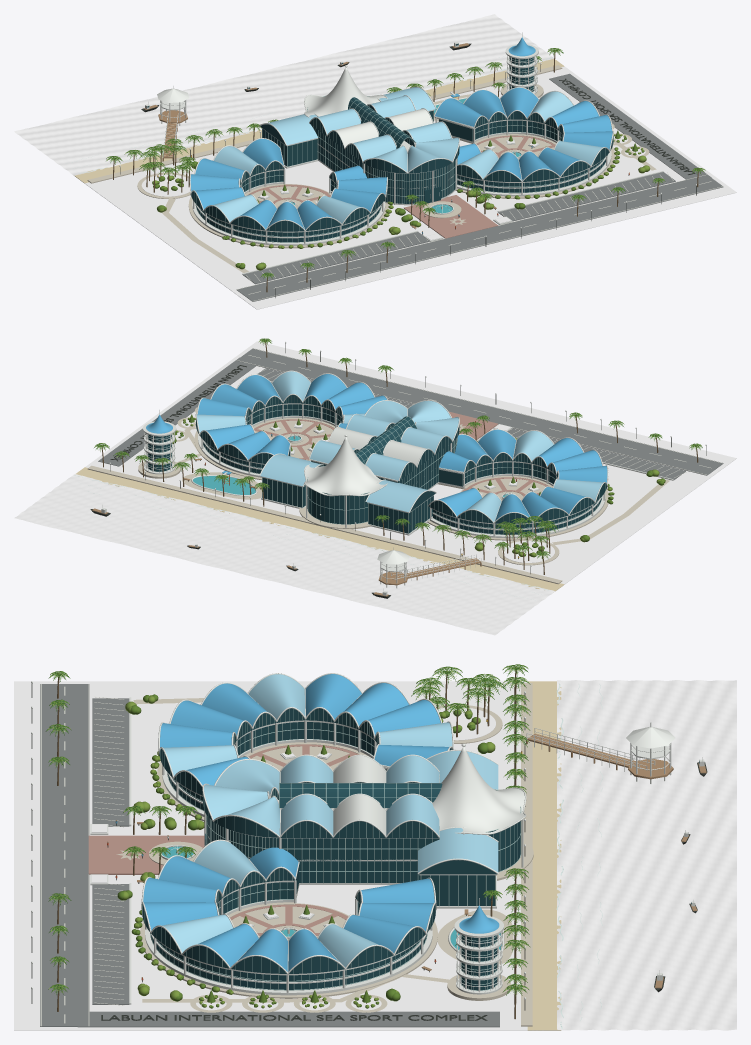
The model's file is lisc.gltf.
The picture shows the model from 3 angles, top to bottom: view 1: azimuth 30°, elevation 25°; view 2: azimuth 150°, elevation 25°; view 3: azimuth 270°, elevation 25°; orthographic projection. The views are drawn at different scales.
Visible parts, largest first — view 1: Sea surface with geometric ripples, Site lawn.001, Front roadway, East service roadway, Parking surface, Palm leaflets.002, Beach, Parking surface.001, Entrance rose plaza, 01 | west outer | curved glass, White sculpted sail roof, Atrium mullions (+55 smaller); view 2: Sea surface with geometric ripples, Site lawn.001, Front roadway, Beach, White sculpted sail roof, Beach promenade.001, Palm leaflets.002, East service roadway, Canopy hall | curved glass, 01 | west outer | curved glass, Waterfront annex glazing, Palm leaflets.003 (+55 smaller); view 3: Sea surface with geometric ripples, Site lawn.001, Front roadway, Beach, East service roadway, Atrium | glass panel.064, Parking surface, Palm leaflets.002, White sculpted sail roof, Parking surface.001, Beach promenade.001, 02 | east outer | curved glass (+81 smaller).
Part boxes in pixels (<box>): Sea surface with geometric ripples: <box>14,14,553,175</box>; Site lawn.001: <box>80,66,736,309</box>; Front roadway: <box>236,175,723,301</box>; East service roadway: <box>549,73,711,179</box>; Parking surface: <box>243,232,429,284</box>; Palm leaflets.002: <box>106,48,705,277</box>; Beach: <box>74,59,564,183</box>; Parking surface.001: <box>498,172,675,221</box>; Entrance rose plaza: <box>404,195,498,238</box>; 01 | west outer | curved glass: <box>196,205,381,242</box>; White sculpted sail roof: <box>305,67,385,116</box>; Atrium mullions: <box>313,126,457,203</box>; Sea surface with geometric ripples: <box>14,474,554,635</box>; Site lawn.001: <box>85,341,736,584</box>; Front roadway: <box>236,348,723,475</box>; Beach: <box>76,467,564,591</box>; White sculpted sail roof: <box>305,437,385,495</box>; Beach promenade.001: <box>87,465,562,584</box>; Palm leaflets.002: <box>94,338,702,557</box>; East service roadway: <box>98,357,256,466</box>; Canopy hall | curved glass: <box>307,487,368,524</box>; 01 | west outer | curved glass: <box>433,498,601,534</box>; Waterfront annex glazing: <box>368,495,433,533</box>; Palm leaflets.003: <box>95,338,701,558</box>; Sea surface with geometric ripples: <box>557,680,736,1030</box>; Site lawn.001: <box>14,681,527,1030</box>; Front roadway: <box>40,684,89,1026</box>; Beach: <box>527,681,561,1030</box>; East service roadway: <box>77,1011,499,1027</box>; Atrium | glass panel.064: <box>281,838,439,882</box>; Parking surface: <box>92,698,129,826</box>; Palm leaflets.002: <box>47,664,529,993</box>; White sculpted sail roof: <box>432,746,524,833</box>; Parking surface.001: <box>92,884,129,1004</box>; Beach promenade.001: <box>521,683,532,1026</box>; 02 | east outer | curved glass: <box>151,935,426,989</box>.
Bounding box in the file's own units: 96 × 14.57 × 83.9.
